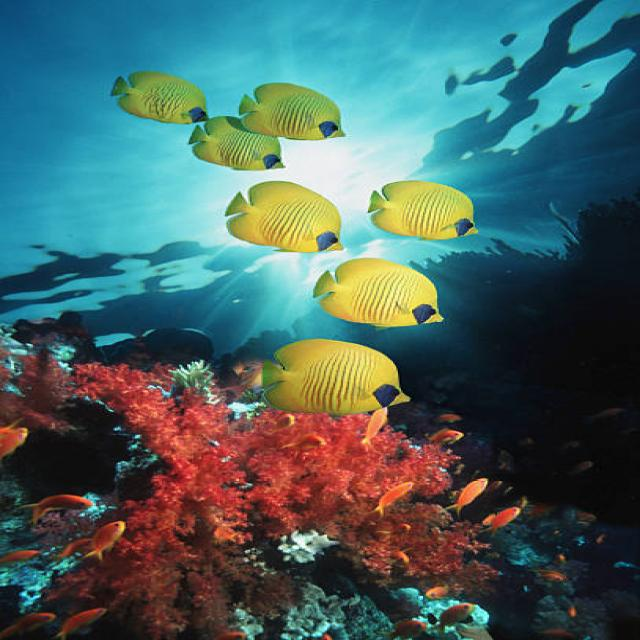ButterflyFish: (254, 341, 413, 411), (316, 257, 442, 328), (223, 181, 339, 251), (372, 180, 478, 240), (187, 113, 287, 170), (241, 85, 342, 138), (111, 67, 202, 121)
